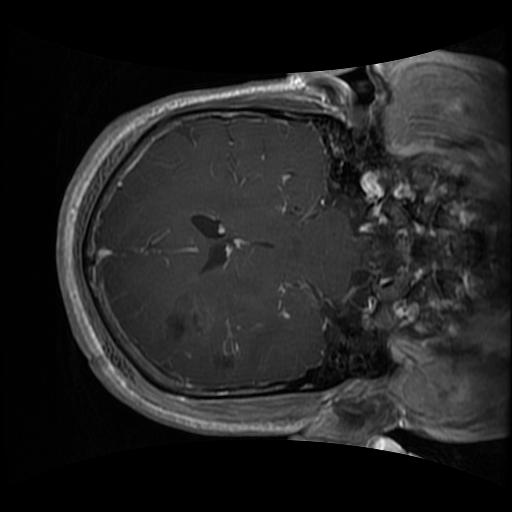glioma: (158, 295, 254, 370)
